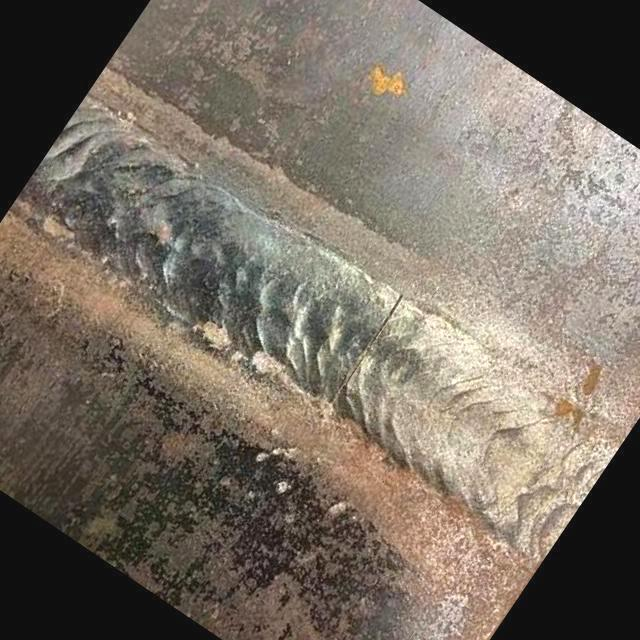defect: (325, 288, 406, 404)
